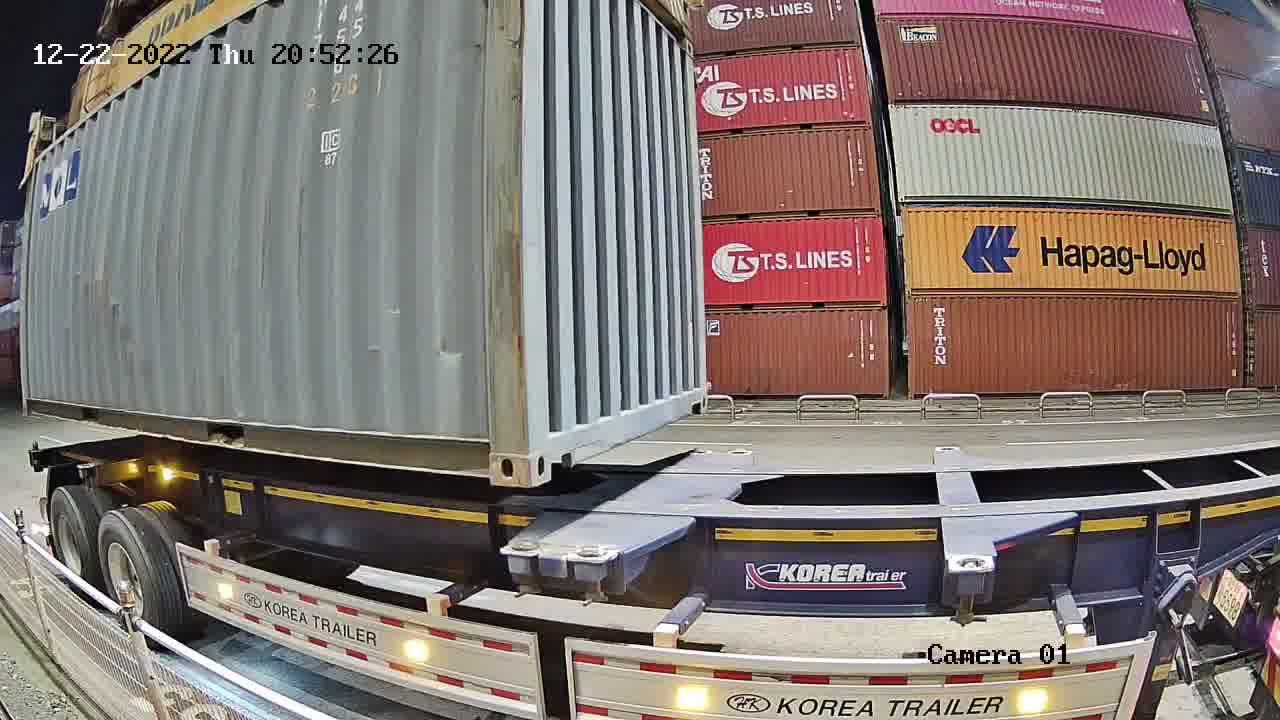Chassis: (505, 450, 710, 557), (571, 450, 754, 561)
Cone: (573, 547, 613, 608), (506, 541, 539, 600)
Hole_L: (527, 410, 572, 488)
Hole_R: (460, 415, 527, 486), (685, 373, 708, 416)
Tire: (100, 514, 157, 643), (51, 492, 94, 597)
